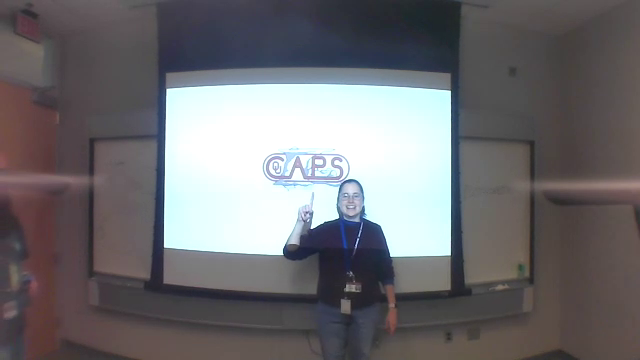up: (293, 189, 319, 224)
